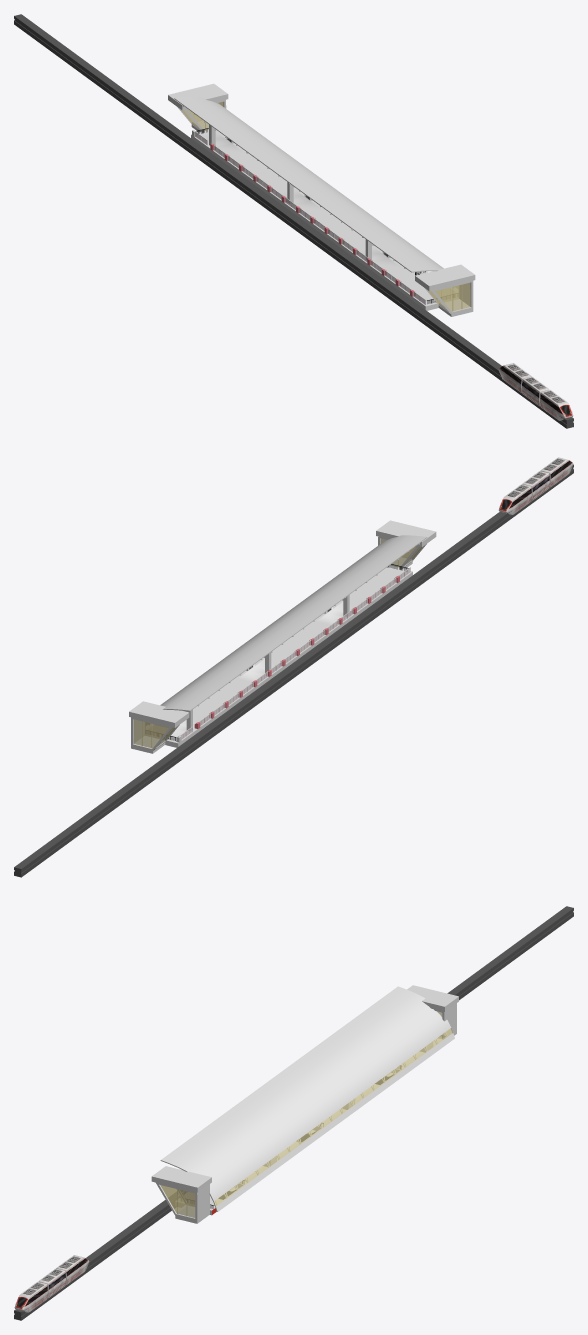
Rendered from monorel animated.fbx.
3 renders of one model, top to bottom at view 1: azimuth 30°, elevation 25°; view 2: azimuth 150°, elevation 25°; view 3: azimuth 330°, elevation 25°, orthographic.
Visible parts, largest first — view 1: Cube.001, Cube.030, Cube.029, Cube.006, Cube.039, Cube.012, Cube.003, Cube.007, Cube.011; view 2: Cube.001, Cube.030, Cube.029, Cube.012, Cube.039, Cube.006, Cube.013, Cube.011, Cube.007; view 3: Cube.030, Cube.001, Cube.006, Cube.029, Cube.012, Cube.003, Cube.007, Cube.011.
Part boxes in pixels (left/top/right/bottom): Cube.001: left=14, top=14, right=573, bottom=428; Cube.030: left=174, top=96, right=443, bottom=272; Cube.029: left=191, top=124, right=438, bottom=310; Cube.006: left=415, top=264, right=475, bottom=316; Cube.039: left=210, top=143, right=425, bottom=304; Cube.012: left=168, top=83, right=228, bottom=132; Cube.003: left=435, top=283, right=470, bottom=311; Cube.007: left=540, top=390, right=573, bottom=420; Cube.011: left=498, top=363, right=531, bottom=393; Cube.001: left=14, top=464, right=573, bottom=877; Cube.030: left=160, top=535, right=427, bottom=711; Cube.029: left=165, top=565, right=412, bottom=747; Cube.012: left=129, top=701, right=189, bottom=753; Cube.039: left=194, top=567, right=410, bottom=728; Cube.006: left=376, top=520, right=436, bottom=569; Cube.013: left=133, top=719, right=168, bottom=748; Cube.011: left=498, top=484, right=531, bottom=515; Cube.007: left=540, top=457, right=573, bottom=487; Cube.030: left=160, top=986, right=454, bottom=1211; Cube.001: left=14, top=906, right=573, bottom=1320; Cube.006: left=151, top=1166, right=211, bottom=1223; Cube.029: left=210, top=1037, right=444, bottom=1215; Cube.012: left=407, top=985, right=458, bottom=1037; Cube.003: left=160, top=1185, right=195, bottom=1217; Cube.007: left=14, top=1282, right=47, bottom=1312; Cube.011: left=56, top=1255, right=89, bottom=1285.
Size of the model in its own units: 411 by 327 by 6887.
